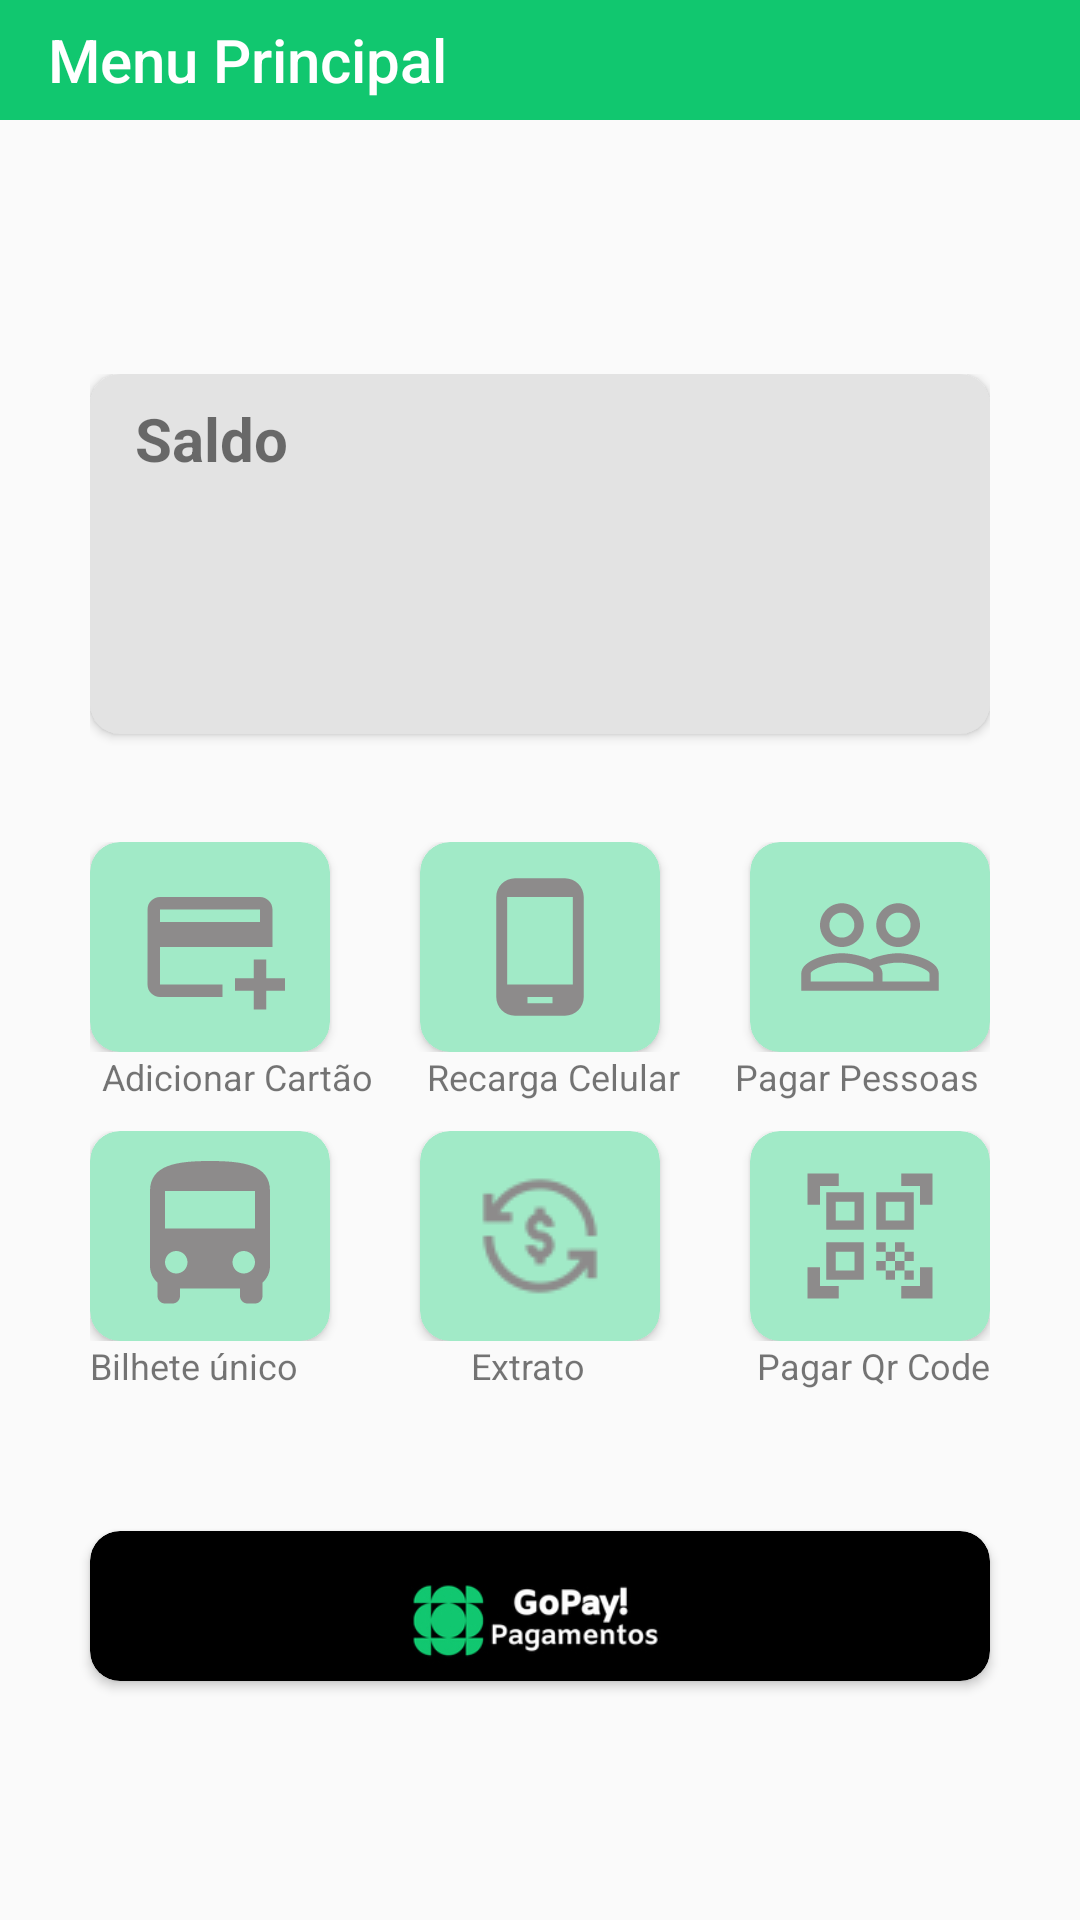

Icons on this 1080px x 1920px Android screen, each with the point to tap as [x,y]:
directions bus: [210,1232]
qr code scanner: [870,1236]
